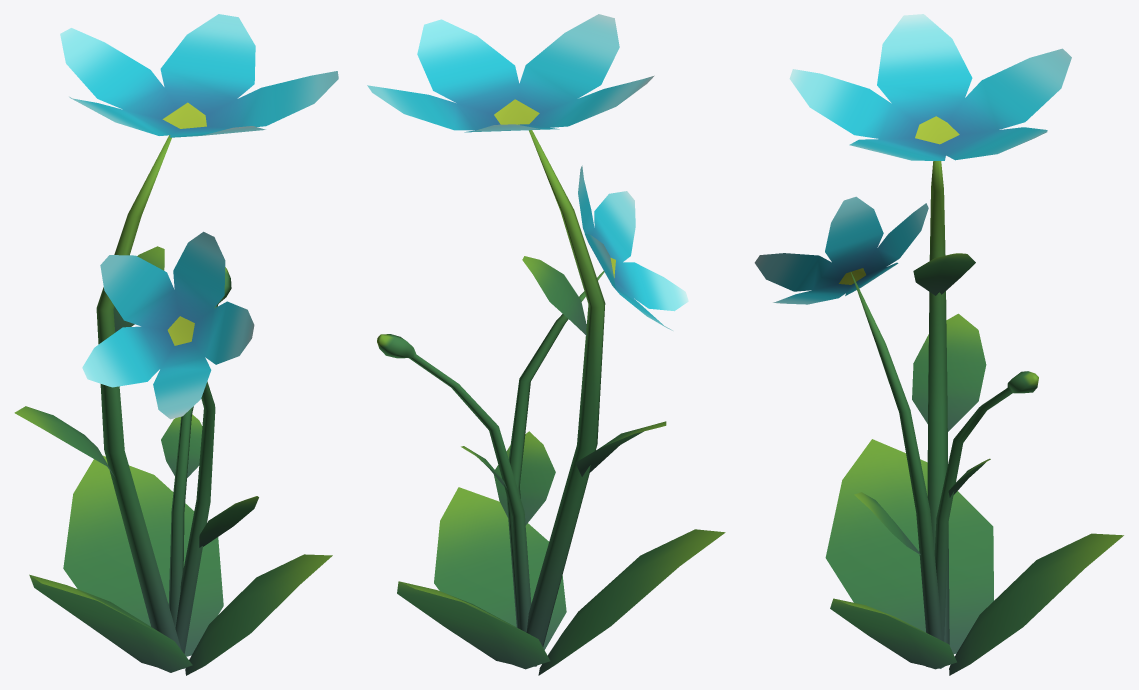
File: Flower_007.fbx
3 renders of one model, left to right at view 1: azimuth 30°, elevation 25°; view 2: azimuth 150°, elevation 25°; view 3: azimuth 270°, elevation 25°, orthographic.
Parts seen in each view (by area): view 1: Flower.007; view 2: Flower.007; view 3: Flower.007.
Boxes of the visible parts, x1=… form: Flower.007: x1=14, y1=14, x2=338, y2=675; Flower.007: x1=367, y1=14, x2=725, y2=675; Flower.007: x1=754, y1=14, x2=1123, y2=675.
Size of the model in its own units: 1.53 by 2.94 by 1.66.
